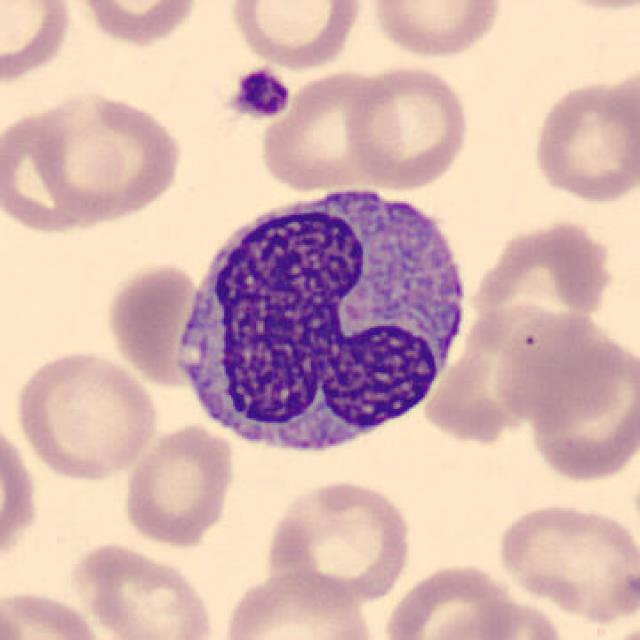Monocyte: (166, 175, 477, 474)
Platelets: (228, 65, 294, 122)
RBC: (20, 86, 186, 226), (475, 218, 616, 363), (11, 346, 160, 483), (263, 476, 416, 607), (487, 303, 633, 434), (254, 67, 402, 194), (524, 328, 638, 487), (494, 499, 636, 624), (341, 62, 473, 192), (0, 100, 130, 232), (526, 67, 638, 208), (65, 539, 218, 640), (119, 421, 238, 550), (101, 259, 203, 388), (382, 559, 523, 640), (218, 569, 378, 640), (225, 0, 366, 72), (364, 0, 506, 62), (0, 412, 41, 582), (0, 0, 75, 88), (66, 0, 202, 48), (427, 597, 569, 640), (2, 585, 110, 640), (531, 0, 640, 14), (587, 615, 638, 640)
